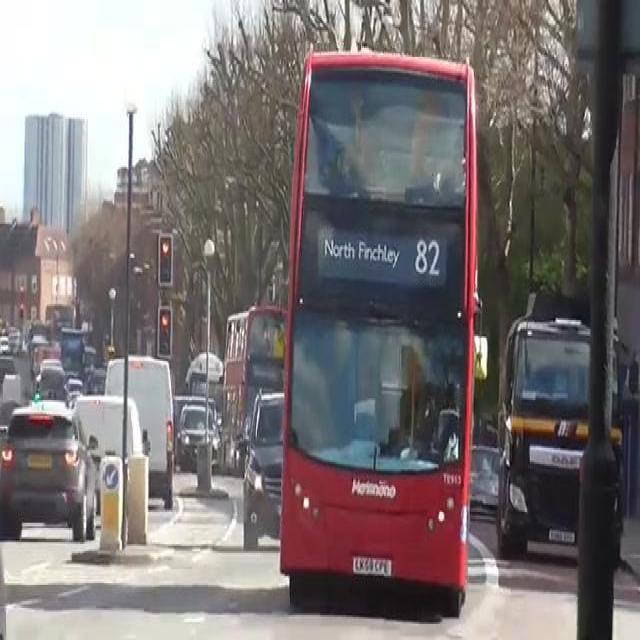motorcycle: (276, 59, 482, 596), (218, 299, 286, 471)
